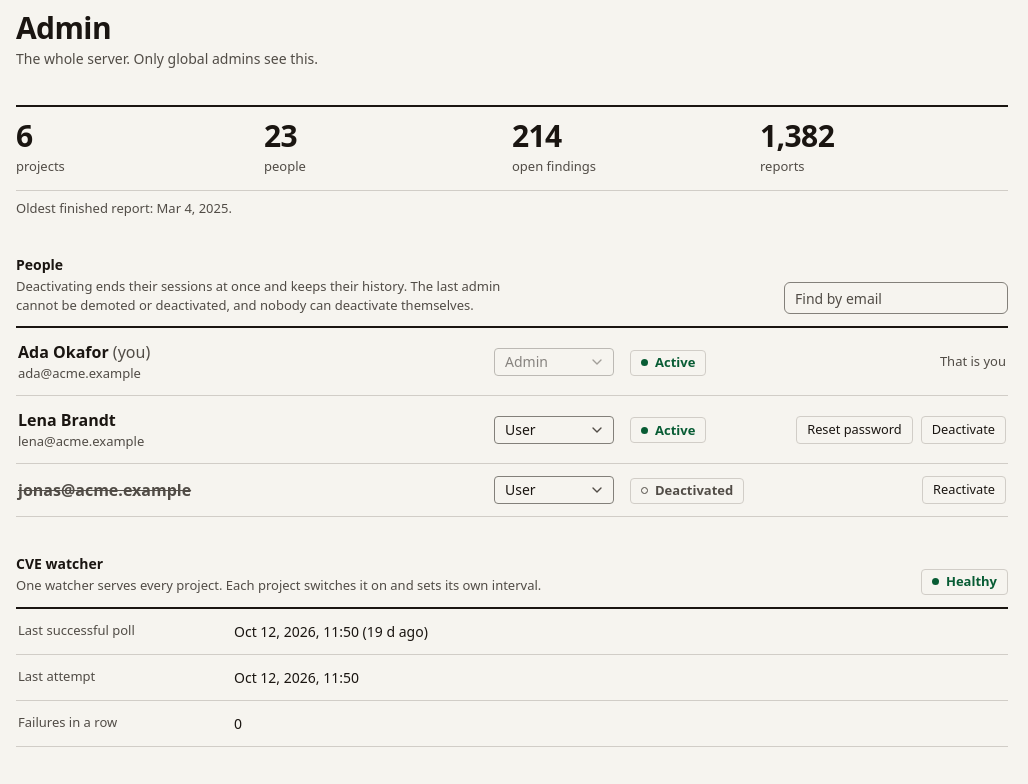
Admin › people › finds people by email and asks the server, not the page
Expected: the list named "People" is shown, [16,326,1008,517]
Type "lena" into the search field named "Find a person by email" at (896, 298), box [784,282,1008,314]
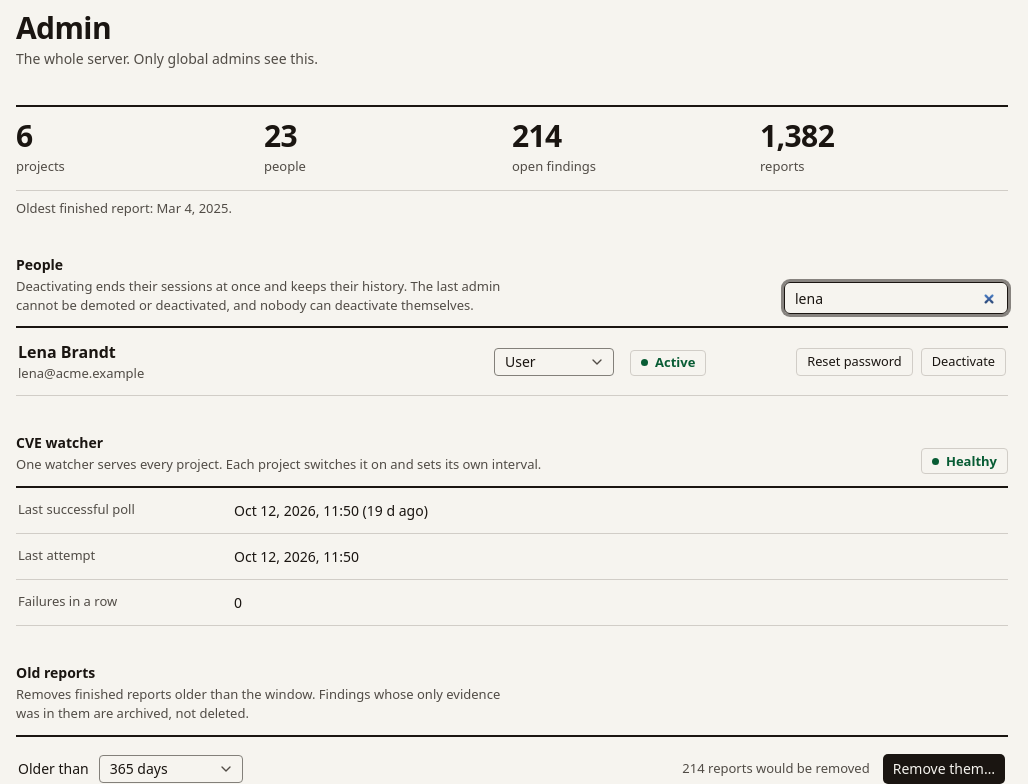
Result: the number of list items is 1 at [16,328,1008,396]
